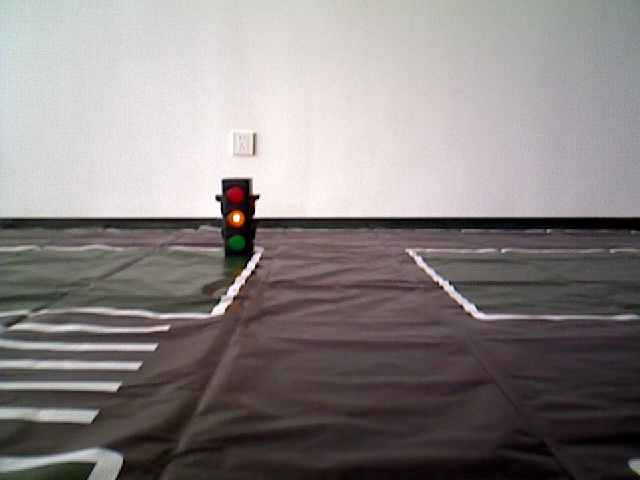yellow: (222, 177, 254, 258)
